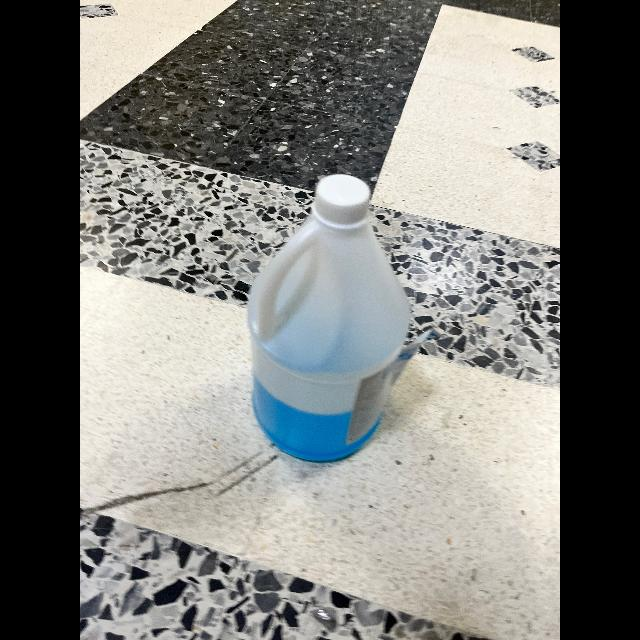chemical_plastic_gallon: (242, 173, 410, 465)
